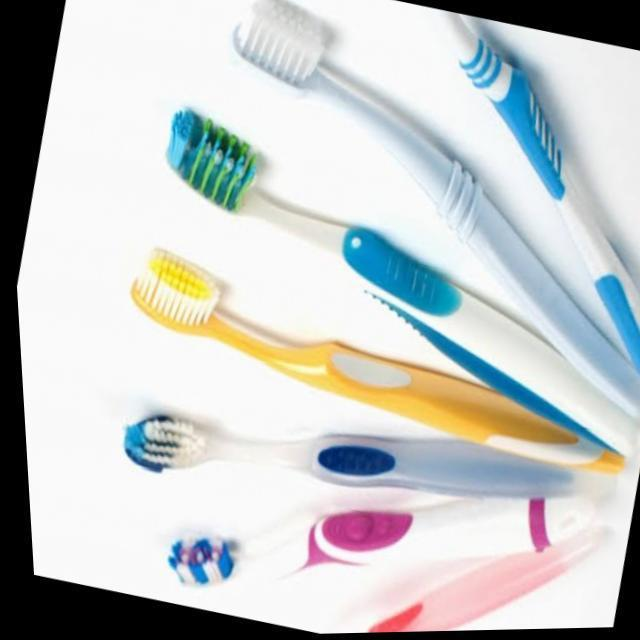toothbrush: (222, 0, 640, 419), (154, 103, 640, 460), (122, 249, 620, 474), (429, 13, 640, 379), (158, 492, 623, 594), (112, 416, 626, 499), (355, 524, 608, 634)
